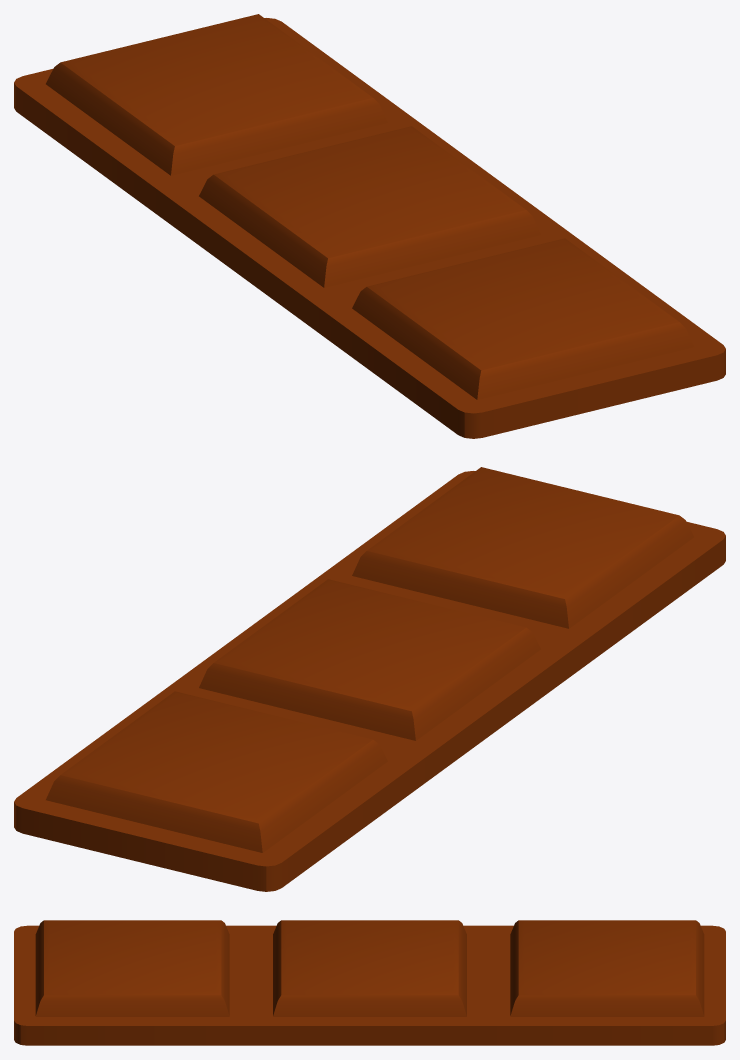
Rendered from Chocolate S.fbx.
3 views of the same model, one above another, from view 1: azimuth 30°, elevation 25°; view 2: azimuth 150°, elevation 25°; view 3: azimuth 270°, elevation 25° (orthographic). The views are drawn at different scales.
Visible parts, largest first — view 1: Chocolate S; view 2: Chocolate S; view 3: Chocolate S.
Part boxes in pixels (x1=…): Chocolate S: x1=14, y1=14, x2=725, y2=438; Chocolate S: x1=14, y1=467, x2=725, y2=891; Chocolate S: x1=14, y1=920, x2=725, y2=1045.
Bounding box in the file's own units: 0.3091 × 0.057 × 0.9273.
